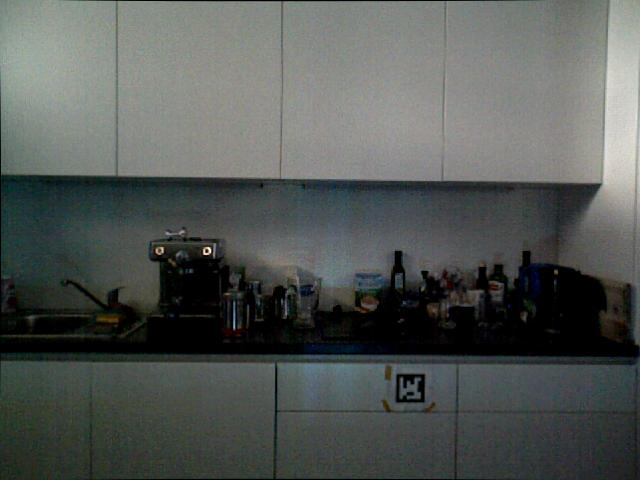bench: (474, 260, 491, 315), (492, 260, 510, 310), (0, 270, 18, 318), (390, 249, 405, 294), (518, 250, 532, 294)
bird: (424, 301, 453, 317), (359, 295, 380, 311)
couch: (0, 311, 102, 340)
handbag: (281, 267, 318, 330), (449, 301, 478, 331)
